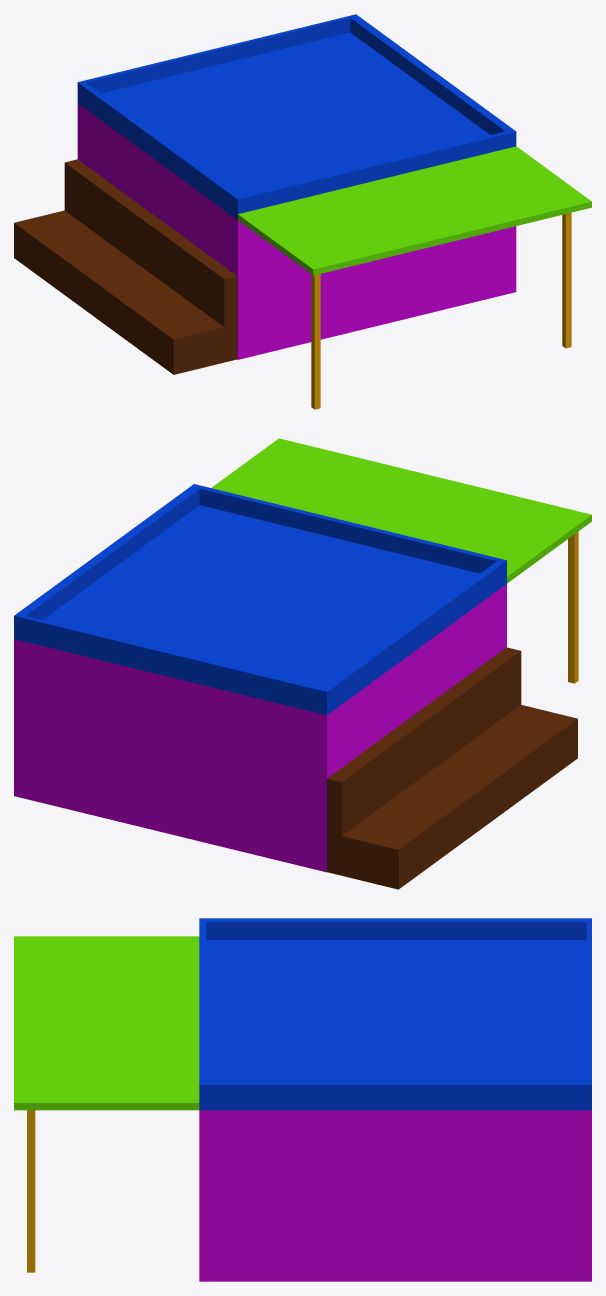
File: Store2.fbx
3 renders of one model, top to bottom at view 1: azimuth 30°, elevation 25°; view 2: azimuth 150°, elevation 25°; view 3: azimuth 270°, elevation 25°, orthographic. The views are drawn at different scales.
Parts seen in each view (by area): view 1: pCube9; view 2: pCube9; view 3: pCube9.
Part boxes in pixels (x1=…): pCube9: x1=14, y1=14, x2=591, y2=409; pCube9: x1=14, y1=438, x2=591, y2=889; pCube9: x1=14, y1=918, x2=591, y2=1281.
Bounding box in the file's own units: 147 × 66.06 × 176.
